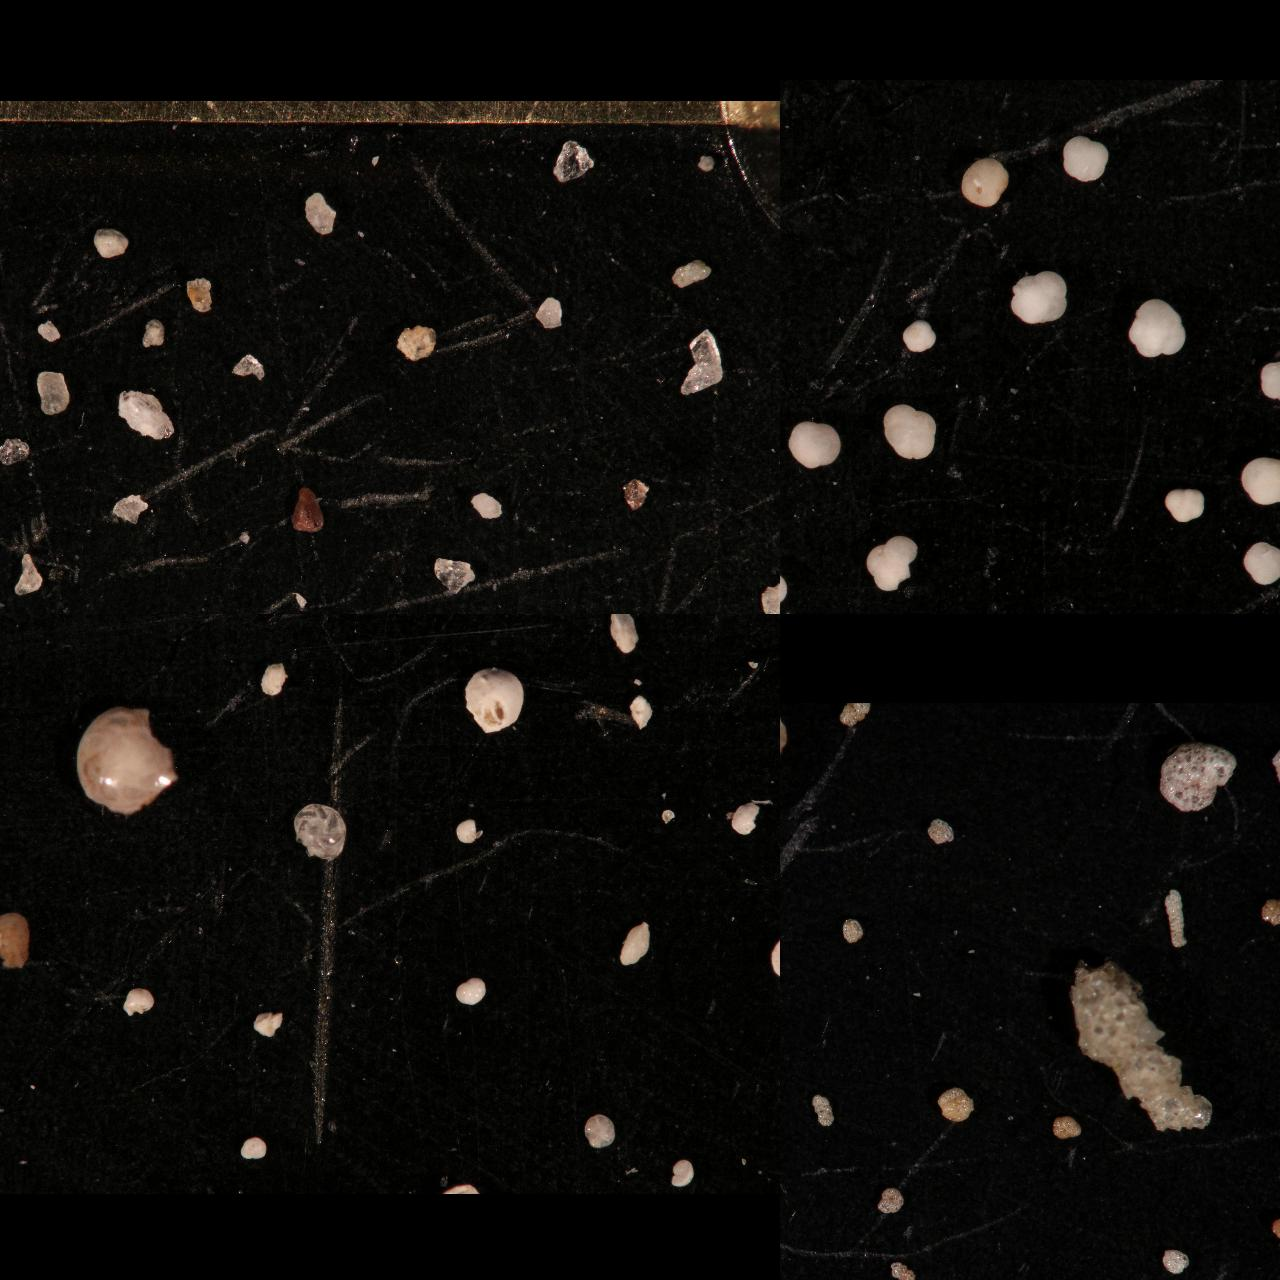Sediment: (679, 326, 726, 396), (116, 388, 177, 440), (551, 139, 597, 181), (290, 485, 325, 533), (34, 370, 72, 414), (433, 557, 476, 593), (302, 191, 339, 234), (395, 325, 437, 361), (0, 260, 30, 308), (12, 552, 45, 595), (672, 258, 713, 288), (94, 229, 130, 260), (184, 278, 215, 314), (111, 492, 149, 522), (535, 295, 565, 328), (471, 492, 505, 520), (233, 353, 267, 381), (0, 436, 32, 465), (622, 478, 651, 510), (0, 184, 21, 223), (141, 315, 165, 348), (0, 576, 20, 614), (0, 237, 19, 275), (0, 326, 18, 367), (0, 438, 18, 478), (760, 581, 779, 614), (38, 320, 63, 343), (0, 479, 16, 503), (290, 591, 309, 610), (695, 155, 716, 171)
agglutinated: (1071, 964, 1213, 1130), (779, 878, 837, 1112), (779, 702, 824, 857), (1160, 742, 1238, 811), (779, 1101, 829, 1189), (779, 1062, 830, 1112), (1164, 888, 1189, 947), (938, 1087, 974, 1121), (779, 798, 801, 838), (839, 703, 872, 726), (927, 818, 955, 844), (811, 1095, 835, 1125), (779, 1159, 798, 1197), (1163, 1248, 1191, 1273), (779, 956, 801, 988), (878, 1187, 904, 1213), (779, 1208, 794, 1254), (1053, 1116, 1081, 1138), (842, 919, 866, 944), (779, 998, 796, 1028), (1261, 899, 1280, 925), (779, 702, 799, 726), (779, 810, 795, 840), (891, 1261, 915, 1280), (779, 985, 794, 1015), (779, 1167, 791, 1201), (779, 813, 789, 855), (779, 880, 799, 897), (779, 1054, 792, 1078), (779, 1228, 794, 1251), (1269, 1216, 1280, 1245), (779, 1065, 792, 1089), (1272, 747, 1280, 782), (779, 1262, 795, 1280), (779, 1213, 796, 1228), (779, 862, 791, 881), (779, 983, 790, 1005), (779, 728, 791, 744), (779, 1201, 789, 1218)
calcareous: (73, 704, 179, 813), (463, 665, 525, 735), (293, 802, 348, 860), (0, 912, 32, 967), (617, 921, 653, 968), (607, 614, 640, 654), (0, 865, 27, 908), (581, 1116, 617, 1149), (0, 628, 25, 670), (259, 661, 290, 695), (731, 801, 760, 837), (628, 694, 655, 730), (122, 987, 156, 1015), (454, 976, 486, 1005), (253, 1010, 285, 1036), (454, 818, 484, 844), (668, 1159, 695, 1187), (239, 1136, 266, 1160), (241, 614, 285, 629), (0, 798, 19, 830), (678, 614, 708, 632), (116, 614, 149, 629), (0, 685, 18, 712), (486, 614, 516, 629), (0, 1065, 15, 1092), (717, 614, 747, 627), (748, 614, 779, 626), (771, 937, 779, 979), (660, 806, 678, 823), (28, 614, 55, 625), (0, 614, 16, 629), (655, 614, 680, 622)
planktic: (1128, 297, 1190, 359), (1009, 266, 1069, 326), (864, 533, 920, 593), (883, 402, 939, 459), (785, 416, 843, 470), (959, 154, 1012, 207), (1058, 134, 1111, 182), (1238, 454, 1280, 505), (779, 125, 812, 184), (1240, 540, 1280, 586), (779, 452, 810, 511), (779, 354, 808, 414), (1163, 486, 1207, 524), (779, 411, 809, 464), (779, 560, 806, 614), (779, 231, 804, 284), (779, 152, 806, 200), (900, 318, 938, 352), (779, 529, 806, 576), (779, 215, 805, 261), (779, 410, 804, 457), (779, 382, 805, 427), (1257, 359, 1280, 402), (779, 577, 804, 614), (779, 248, 801, 286), (779, 586, 803, 614), (779, 290, 794, 318), (779, 79, 801, 96)
